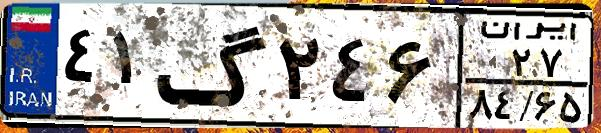1: (110, 28, 156, 98)
2: (270, 28, 330, 110), (508, 27, 537, 80)
4: (330, 28, 385, 110), (57, 26, 110, 100), (495, 70, 520, 125)
5: (560, 70, 590, 125)
6: (385, 28, 445, 110), (535, 70, 560, 125)
7: (537, 27, 568, 80)
8: (470, 70, 495, 125)
گ: (156, 12, 270, 120)
